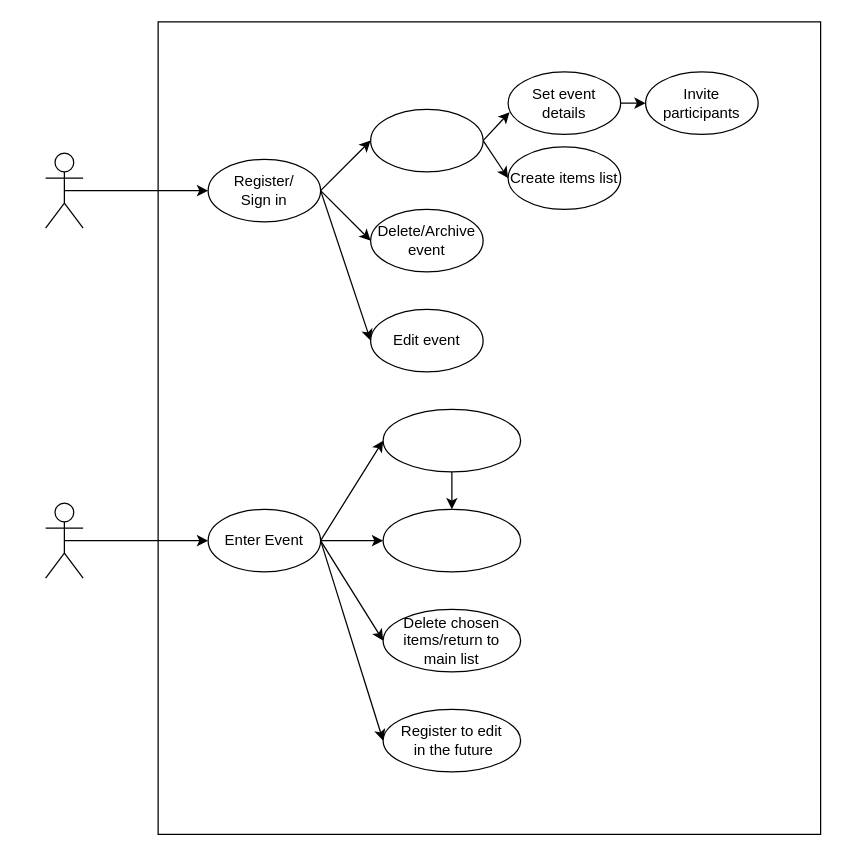
Some shapes in this 843 by 856 pixel diagram are drawn without their labels. The centre of each missing label's shape, as x and y in pixels:
"Choose items to bring" goes at (x=451, y=440).
"Create event" goes at (x=426, y=140).
"Event Owner" goes at (x=63, y=190).
"Invited participant" goes at (x=63, y=540).
"Mark item as bought/completed" goes at (x=451, y=540).
